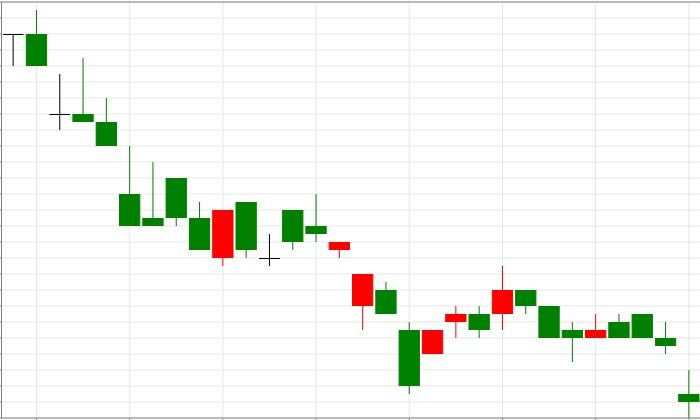inverse_hammer_rise: (3, 9, 141, 227)
